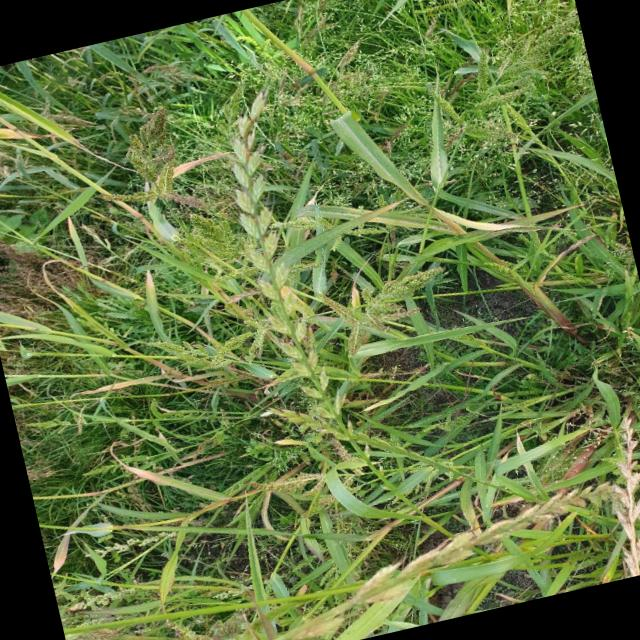Lolium: (213, 477, 635, 640), (215, 90, 361, 500), (564, 413, 640, 583)
